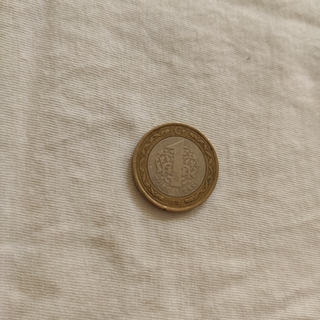1TL: (129, 121, 220, 216)
